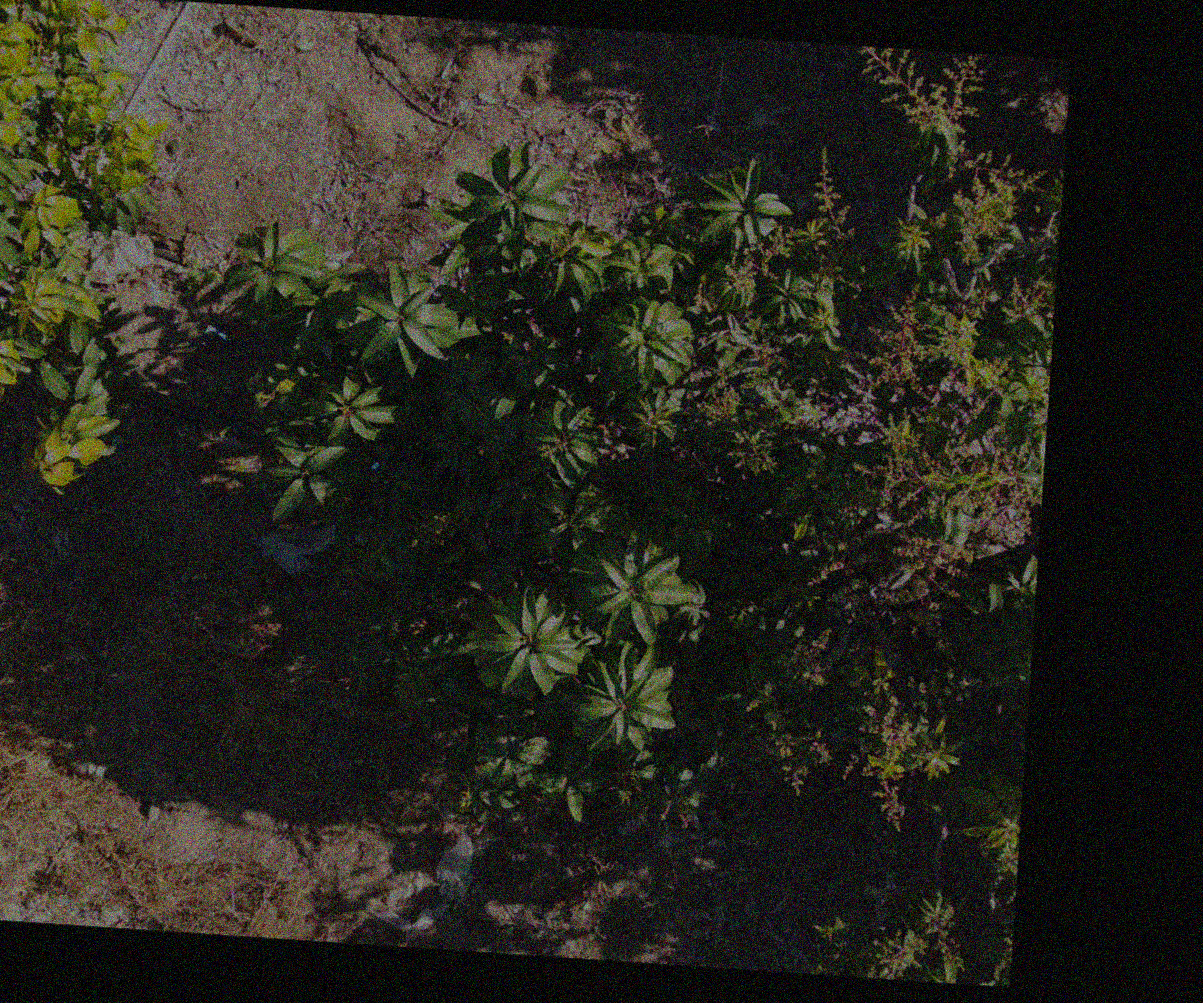flowers: (843, 648, 962, 829), (871, 299, 1011, 437), (876, 424, 1043, 516), (813, 887, 965, 978), (940, 154, 1040, 268), (857, 49, 981, 129), (744, 683, 832, 792), (962, 785, 1019, 885), (726, 223, 788, 298), (866, 929, 925, 979), (786, 626, 828, 691), (725, 428, 778, 476), (1002, 276, 1054, 324), (814, 146, 842, 222), (1036, 87, 1067, 134), (994, 932, 1011, 986)
